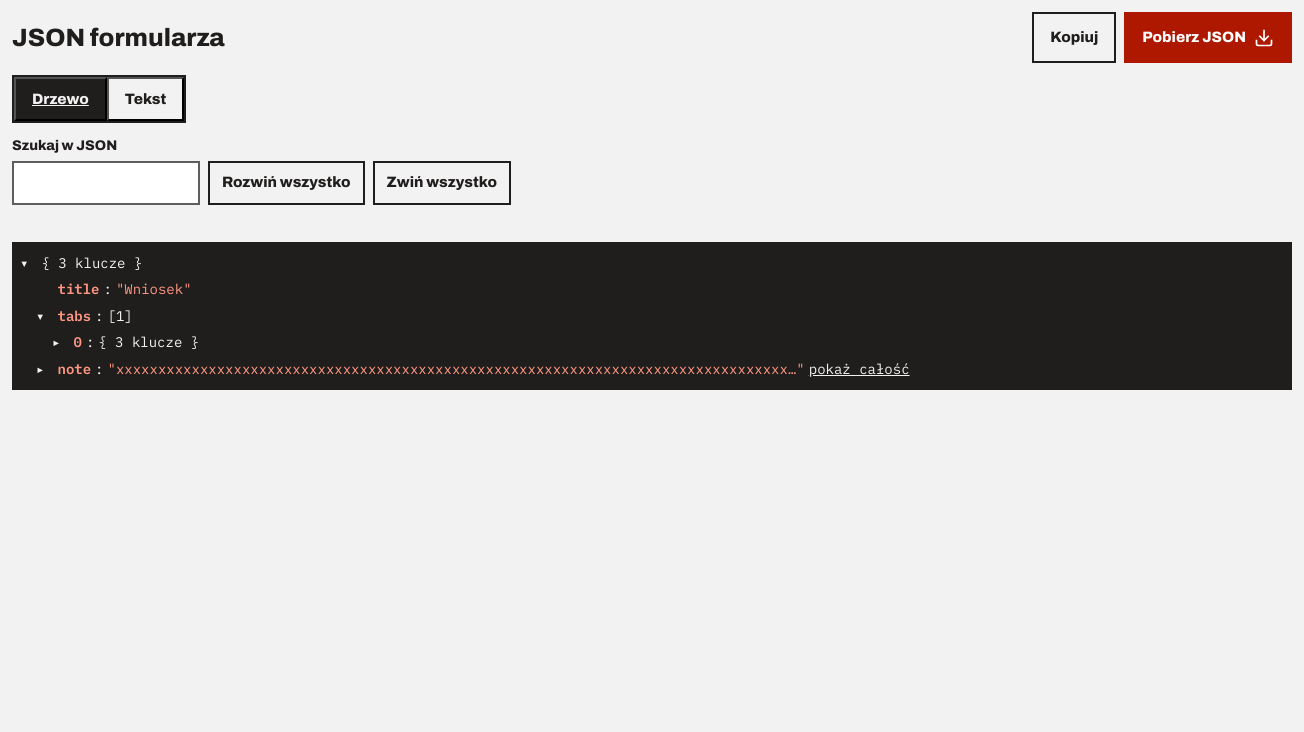
Test: JsonPanel tree › expands and collapses everything
Click the button "Rozwiń wszystko". click: [286, 183]
box: [208,161,364,205]
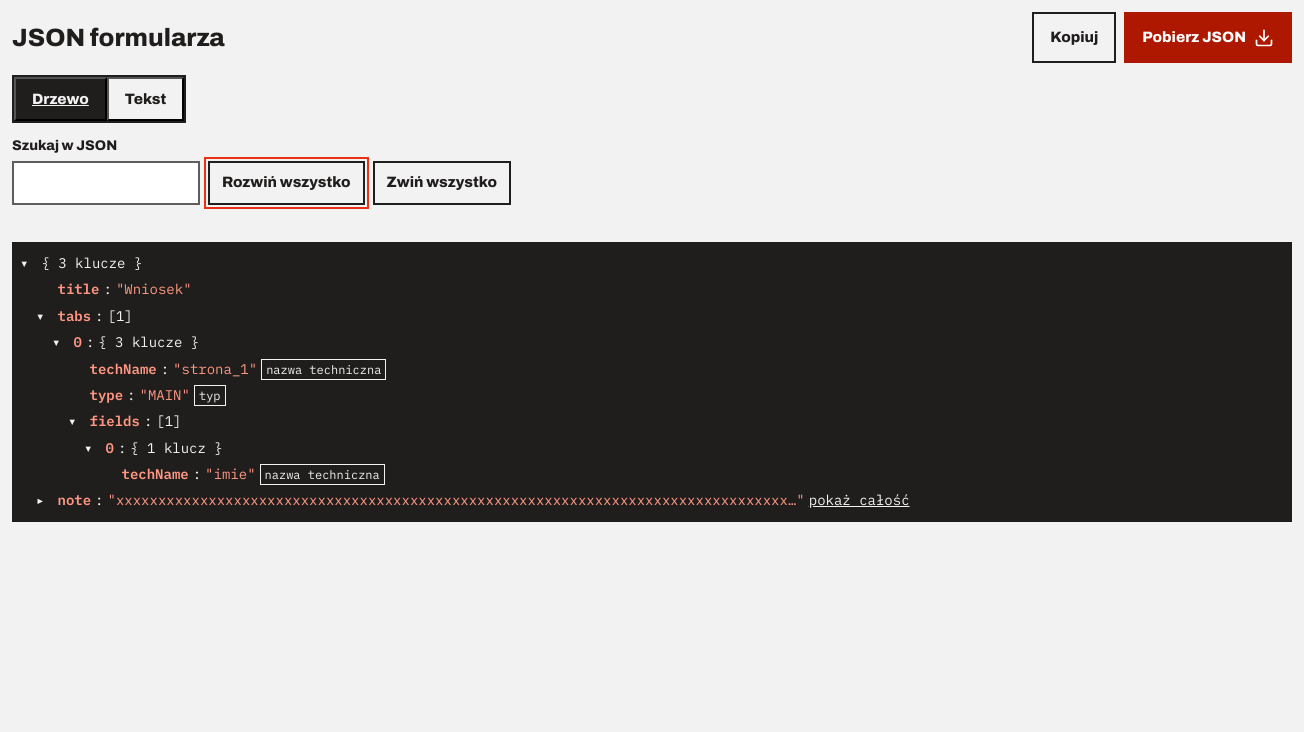
Click the button "Zwiń wszystko". click: [442, 183]
box: [372,161,511,205]
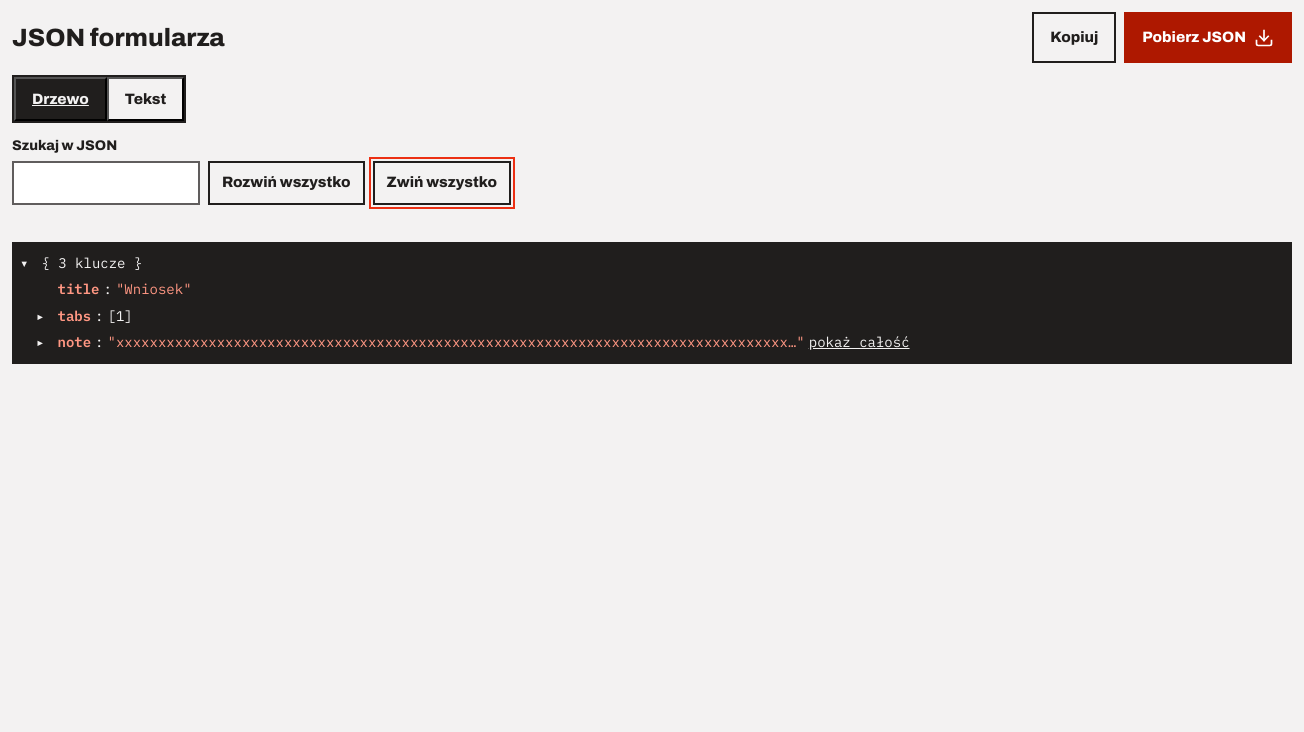
Expected: the number of list items is 4, [20,254,142,272]; [58,280,192,298]; [36,307,133,325]; [36,333,910,351]
